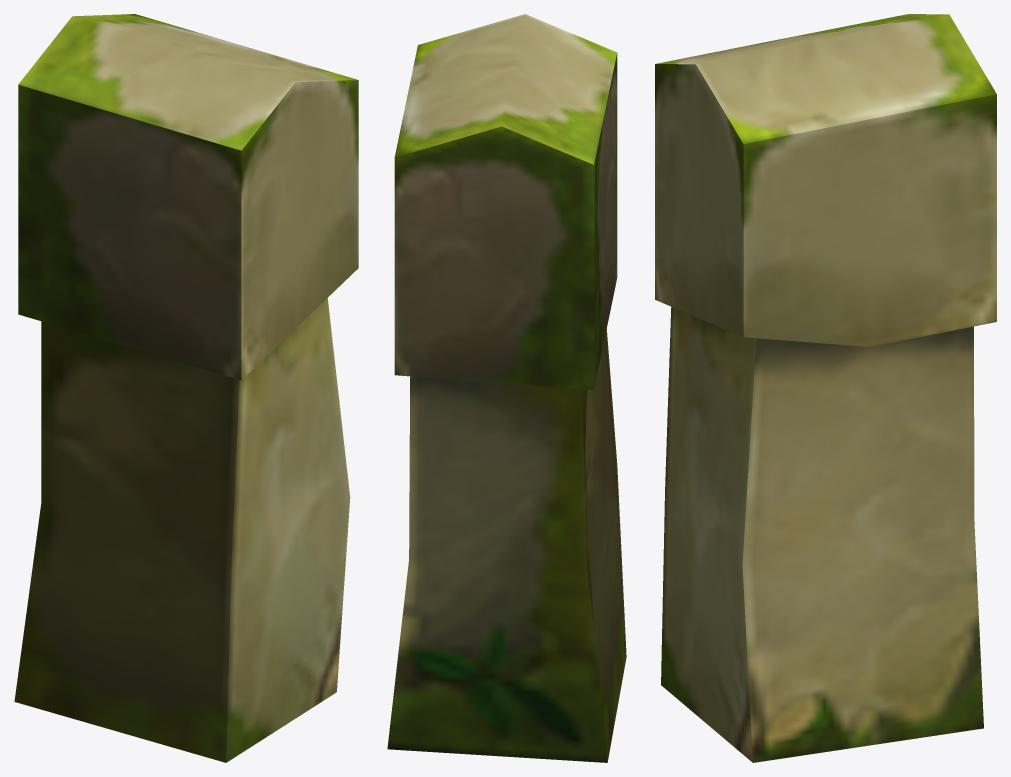
The model's file is shizhu_02.FBX.
3 renders of one model, left to right at view 1: azimuth 30°, elevation 25°; view 2: azimuth 150°, elevation 25°; view 3: azimuth 270°, elevation 25°, orthographic. The views are drawn at different scales.
Parts seen in each view (by area): view 1: shizhu_02; view 2: shizhu_02; view 3: shizhu_02.
Boxes of the visible parts, <box> form: shizhu_02: <box>14,14,358,762</box>; shizhu_02: <box>387,14,626,762</box>; shizhu_02: <box>655,14,996,762</box>.
Bounding box in the file's own units: 3.23 × 3.46 × 7.42.
